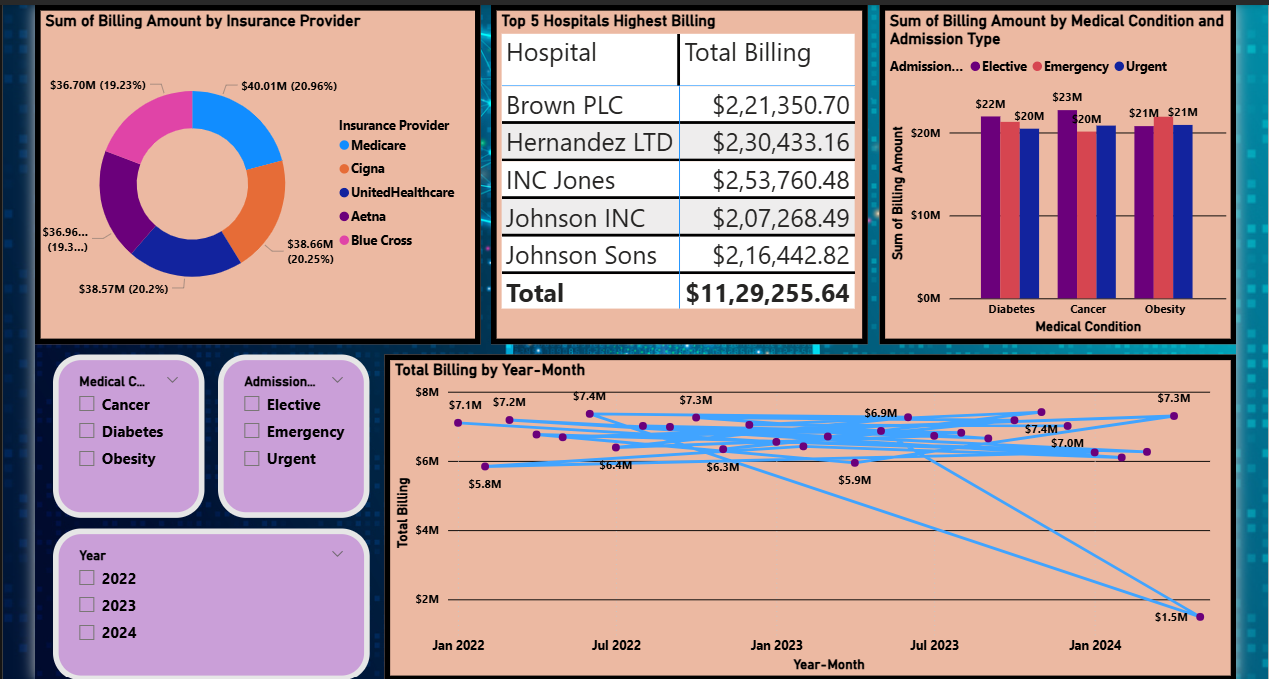

The page's visual inventory and layout, read from the dashboard file:
{"tool":"powerbi","page":{"name":"Billing & Financial Analysis","canvas":[1280,720],"ordinal":1},"visuals":[{"type":"pivotTable","title":"Top 5 Hospitals Highest Billing","fields":{"Rows":["healthcare_fact_table.Hospital"],"Values":["Measures table.Total Billing"]},"box":[485.7,0,401,361.1],"z":0},{"type":"clusteredColumnChart","fields":{"Category":["healthcare_fact_table.Medical Condition"],"Series":["healthcare_fact_table.Admission Type"],"Y":["Sum(healthcare_fact_table.Billing Amount)"]},"box":[899.5,0,380.2,361.1],"z":1000},{"type":"lineChart","fields":{"Category":["Calendar_Table.Year-Month"],"Y":["Measures table.Total Billing"]},"box":[372.3,372.3,907.5,348.3],"z":2000},{"type":"donutChart","fields":{"Category":["healthcare_fact_table.Insurance Provider"],"Y":["Sum(healthcare_fact_table.Billing Amount)"]},"box":[0,0,474.5,361.1],"z":3000},{"type":"slicer","fields":{"Values":["healthcare_fact_table.Medical Condition"]},"box":[19.2,372.3,161.4,174.1],"z":4000},{"type":"slicer","fields":{"Values":["healthcare_fact_table.Admission Type"]},"box":[194.9,372.3,161.4,174.1],"z":5000},{"type":"slicer","fields":{"Values":["Calendar_Table.Year"]},"box":[19.2,557.6,337.1,163],"z":5001}]}

Visuals, with their boxes in screenshot pixels (x1, y1, x2, y2):
"Top 5 Hospitals Highest Billing" pivotTable: x1=494, y1=7, x2=866, y2=342
clusteredColumnChart - healthcare_fact_table.Medical Condition x healthcare_fact_table.Admission Type: x1=878, y1=7, x2=1230, y2=342
lineChart - Calendar_Table.Year-Month x Measures table.Total Billing: x1=388, y1=352, x2=1230, y2=675
donutChart - healthcare_fact_table.Insurance Provider x Sum(healthcare_fact_table.Billing Amount): x1=43, y1=7, x2=483, y2=342
slicer - healthcare_fact_table.Medical Condition: x1=61, y1=352, x2=211, y2=514
slicer - healthcare_fact_table.Admission Type: x1=224, y1=352, x2=374, y2=514
slicer - Calendar_Table.Year: x1=61, y1=524, x2=374, y2=675
